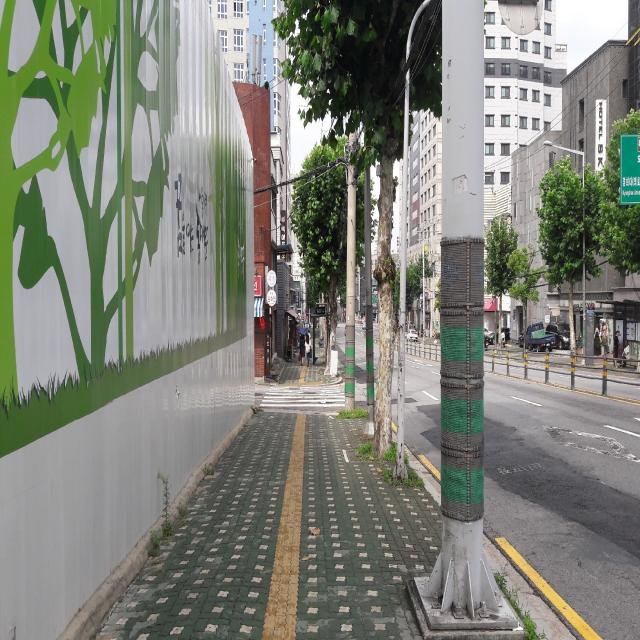횡단보도: (260, 385, 346, 408)
